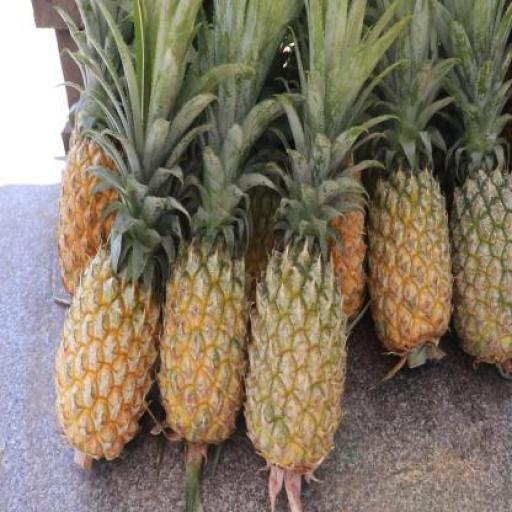------------------------------: (246, 254, 347, 471)
Pineapple - v8 v1: (58, 248, 164, 460), (159, 252, 252, 450), (368, 173, 452, 353), (58, 137, 128, 315)
